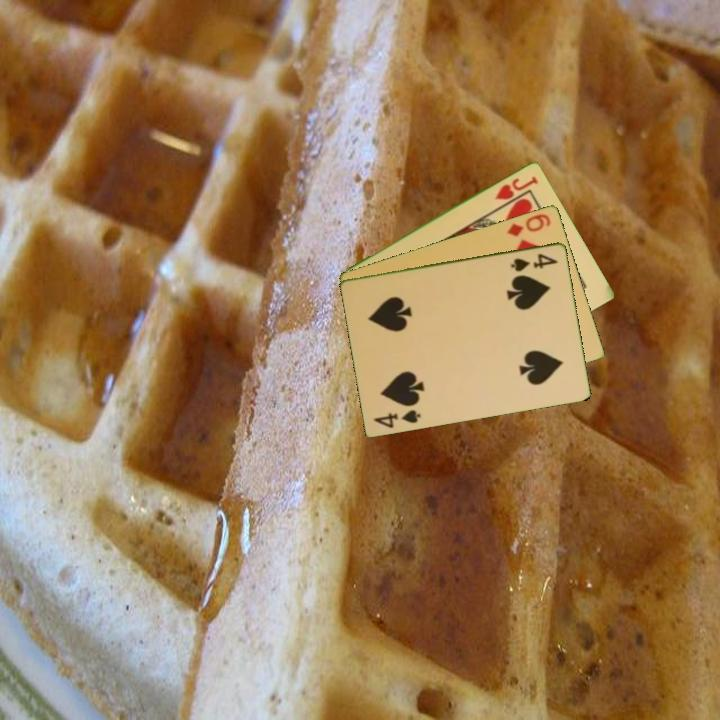4s: (507, 249, 561, 274), (371, 406, 424, 431)
6d: (503, 210, 554, 239)
Jh: (491, 172, 541, 202)
